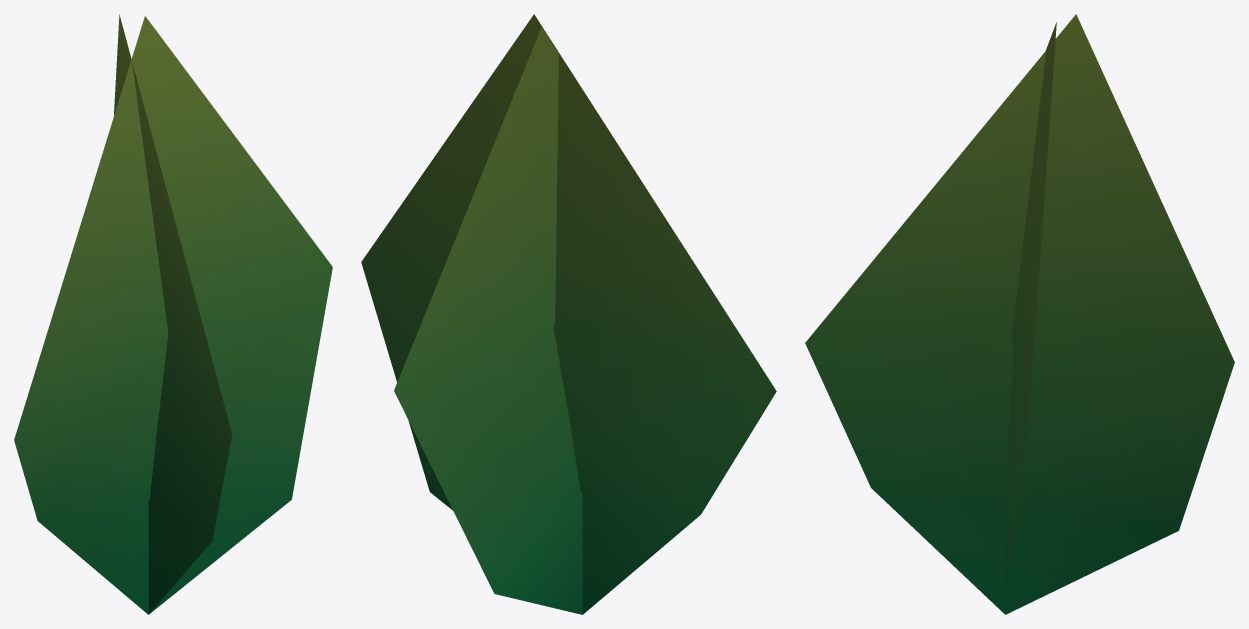
The model's file is moss_01_1.glb.
The picture shows the model from 3 angles, left to right: view 1: azimuth 30°, elevation 25°; view 2: azimuth 150°, elevation 25°; view 3: azimuth 270°, elevation 25°; orthographic projection. The views are drawn at different scales.
Parts seen in each view (by area): view 1: moss_01_b_LOD0; view 2: moss_01_b_LOD0; view 3: moss_01_b_LOD0.
Part boxes in pixels (<box>): moss_01_b_LOD0: <box>14,14,332,614</box>; moss_01_b_LOD0: <box>361,14,776,614</box>; moss_01_b_LOD0: <box>805,14,1234,614</box>.
Size of the model in its own units: 0.0095 by 0.0148 by 0.00952.
